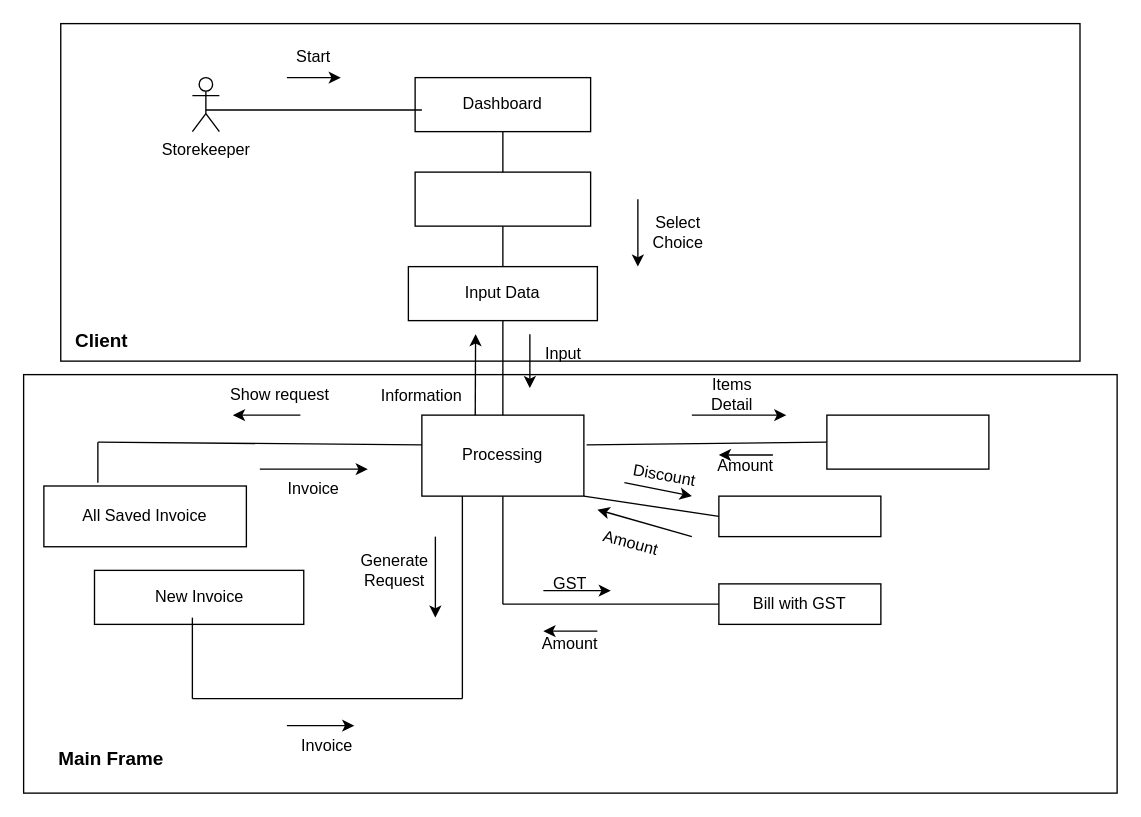
Image size: 1141x817. Some labels were removed from this diagram. Each missing label, with the box of its shape:
Bill Amount: (826, 414, 989, 469)
Bill With Discount: (718, 495, 881, 537)
Select Option: (414, 171, 591, 226)
